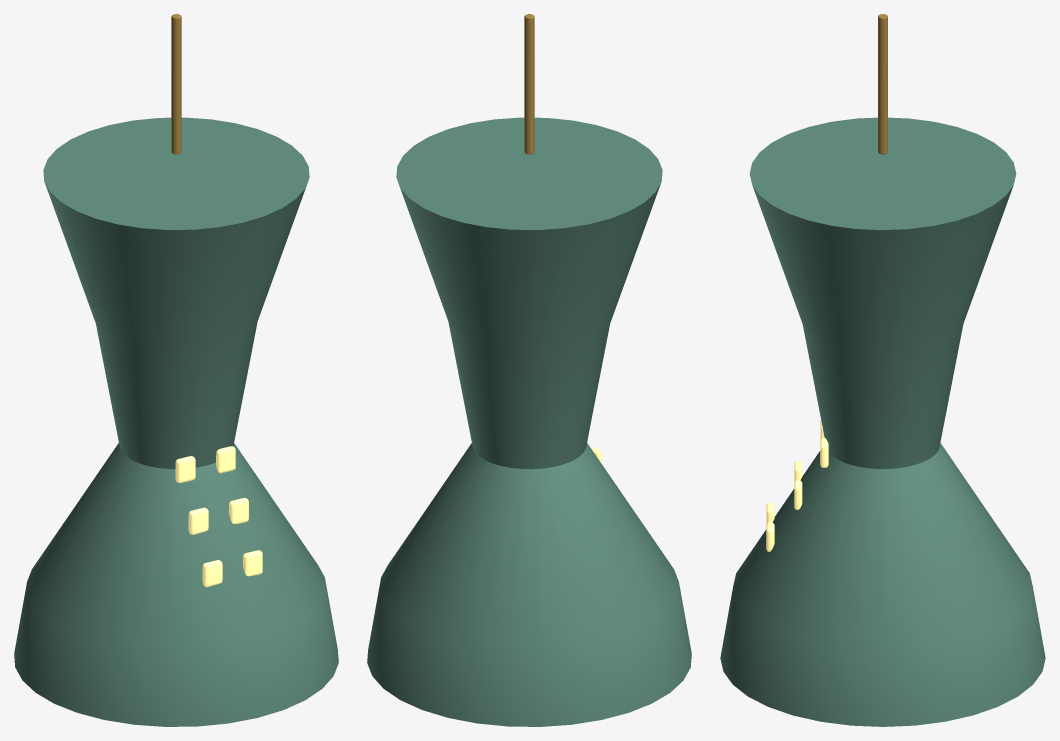
3 renders of one model, left to right at view 1: azimuth 30°, elevation 25°; view 2: azimuth 150°, elevation 25°; view 3: azimuth 270°, elevation 25°, orthographic.
Parts seen in each view (by area): view 1: Flared spindle column, Aerial stem; view 2: Flared spindle column, Aerial stem; view 3: Flared spindle column, Aerial stem.
Boxes of the visible parts, <box> form: Flared spindle column: <box>14,117,338,726</box>; Aerial stem: <box>171,14,181,154</box>; Flared spindle column: <box>367,117,691,726</box>; Aerial stem: <box>524,14,534,154</box>; Flared spindle column: <box>720,117,1045,726</box>; Aerial stem: <box>878,14,887,154</box>.
Bounding box in the file's own units: 1.4 × 3.05 × 1.4.
